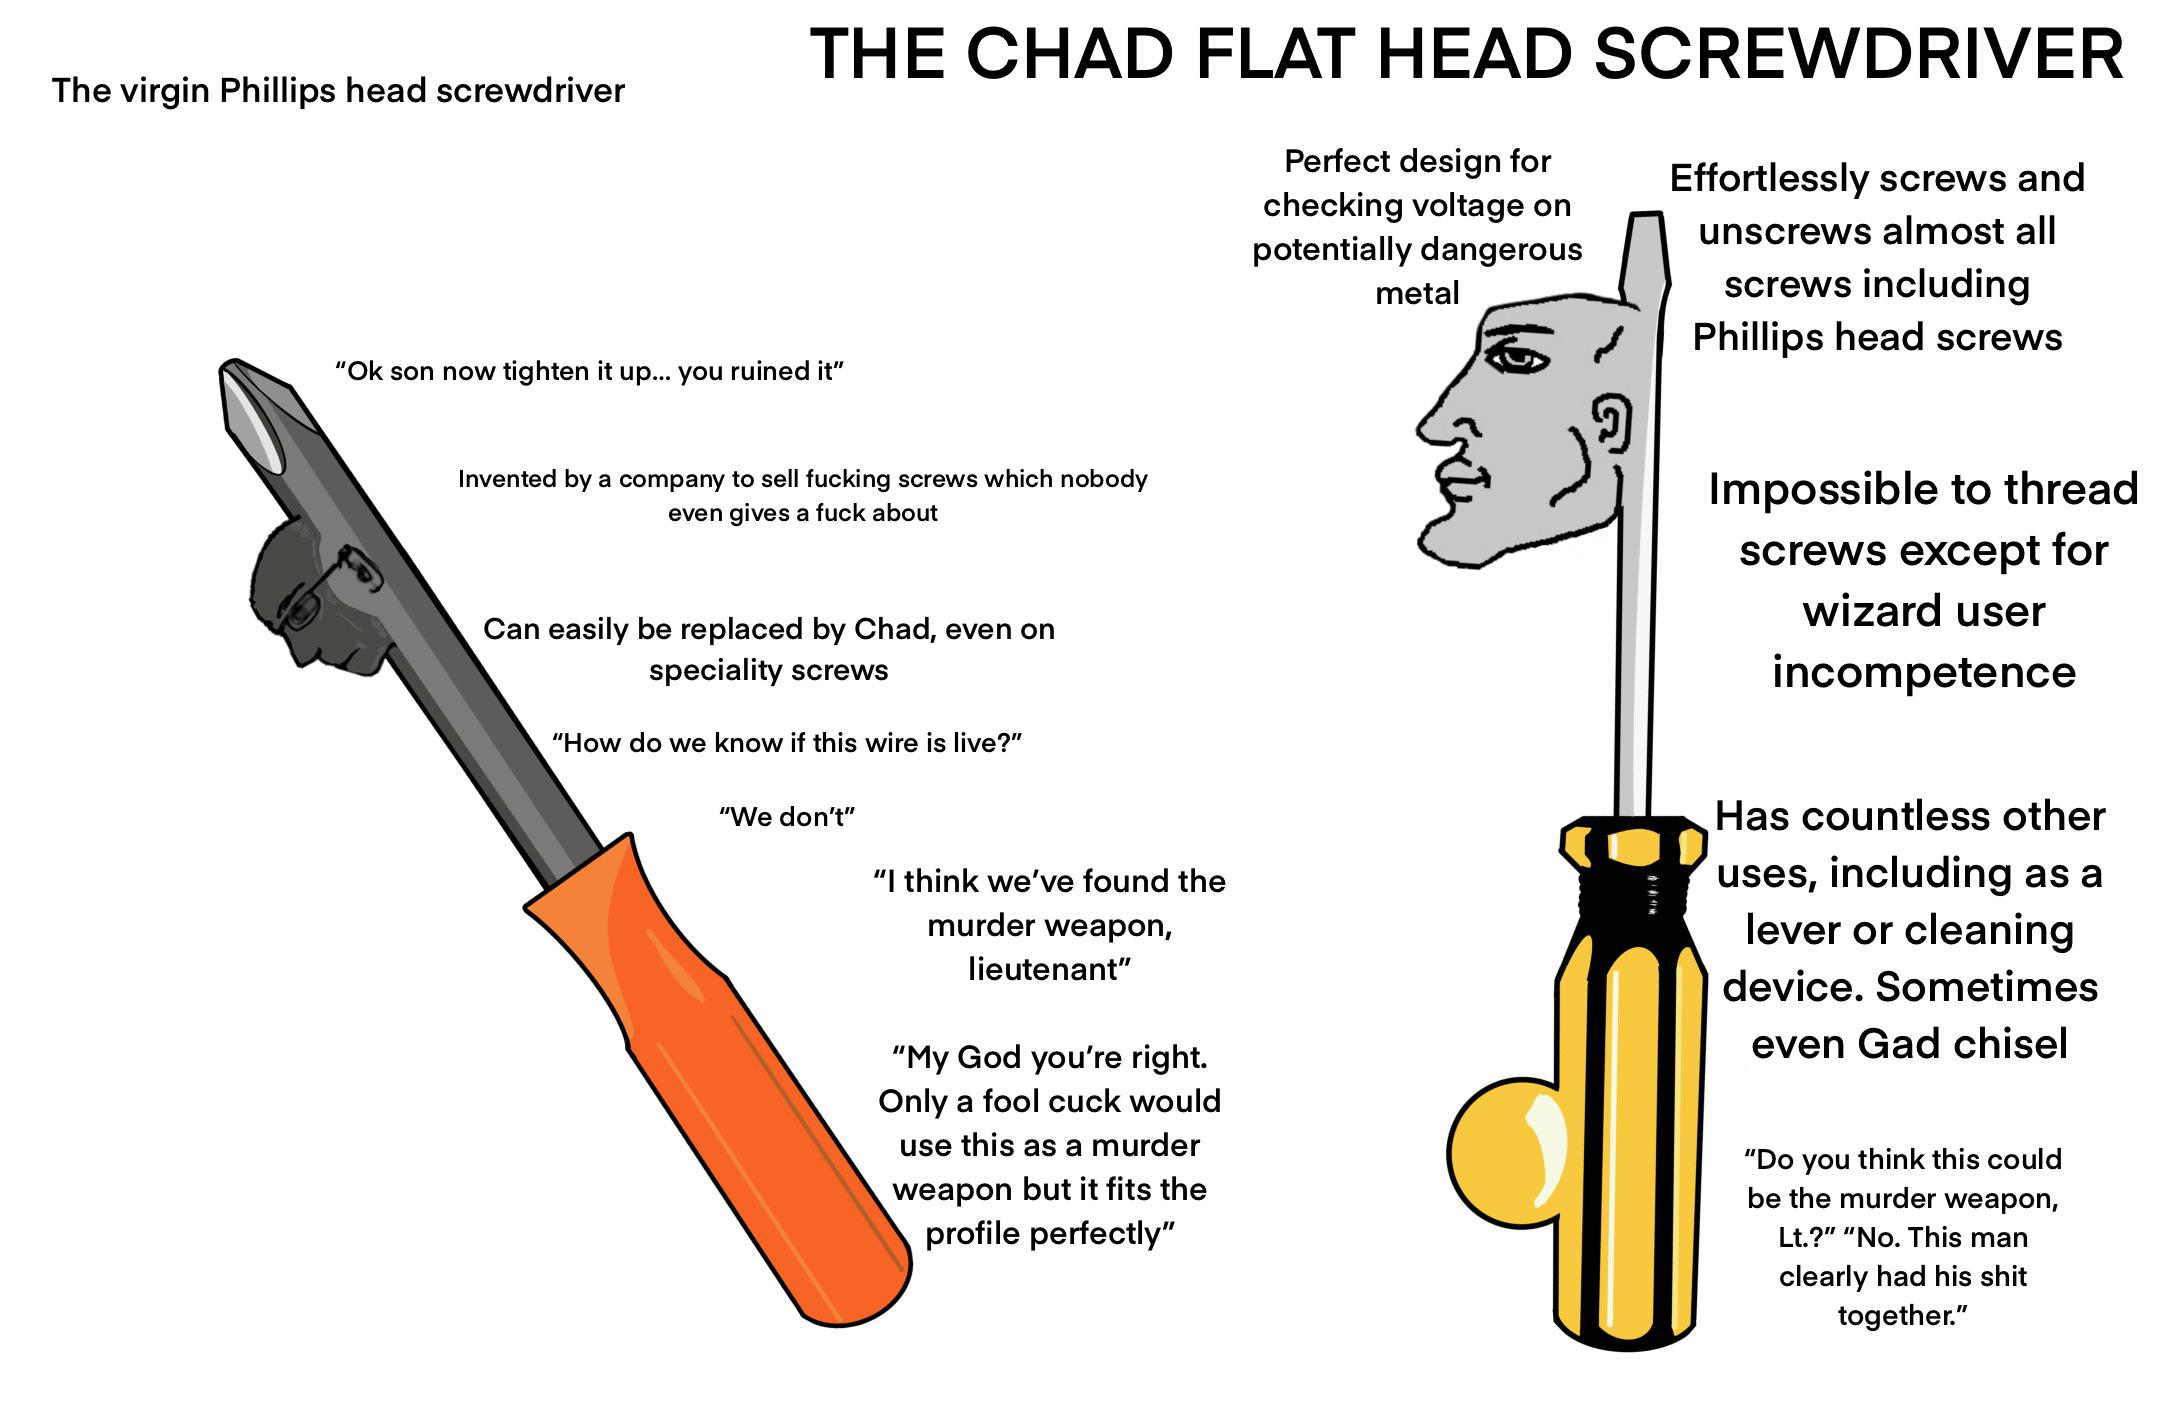screwdriver: (203, 361, 916, 1340), (1562, 211, 1719, 1351)
